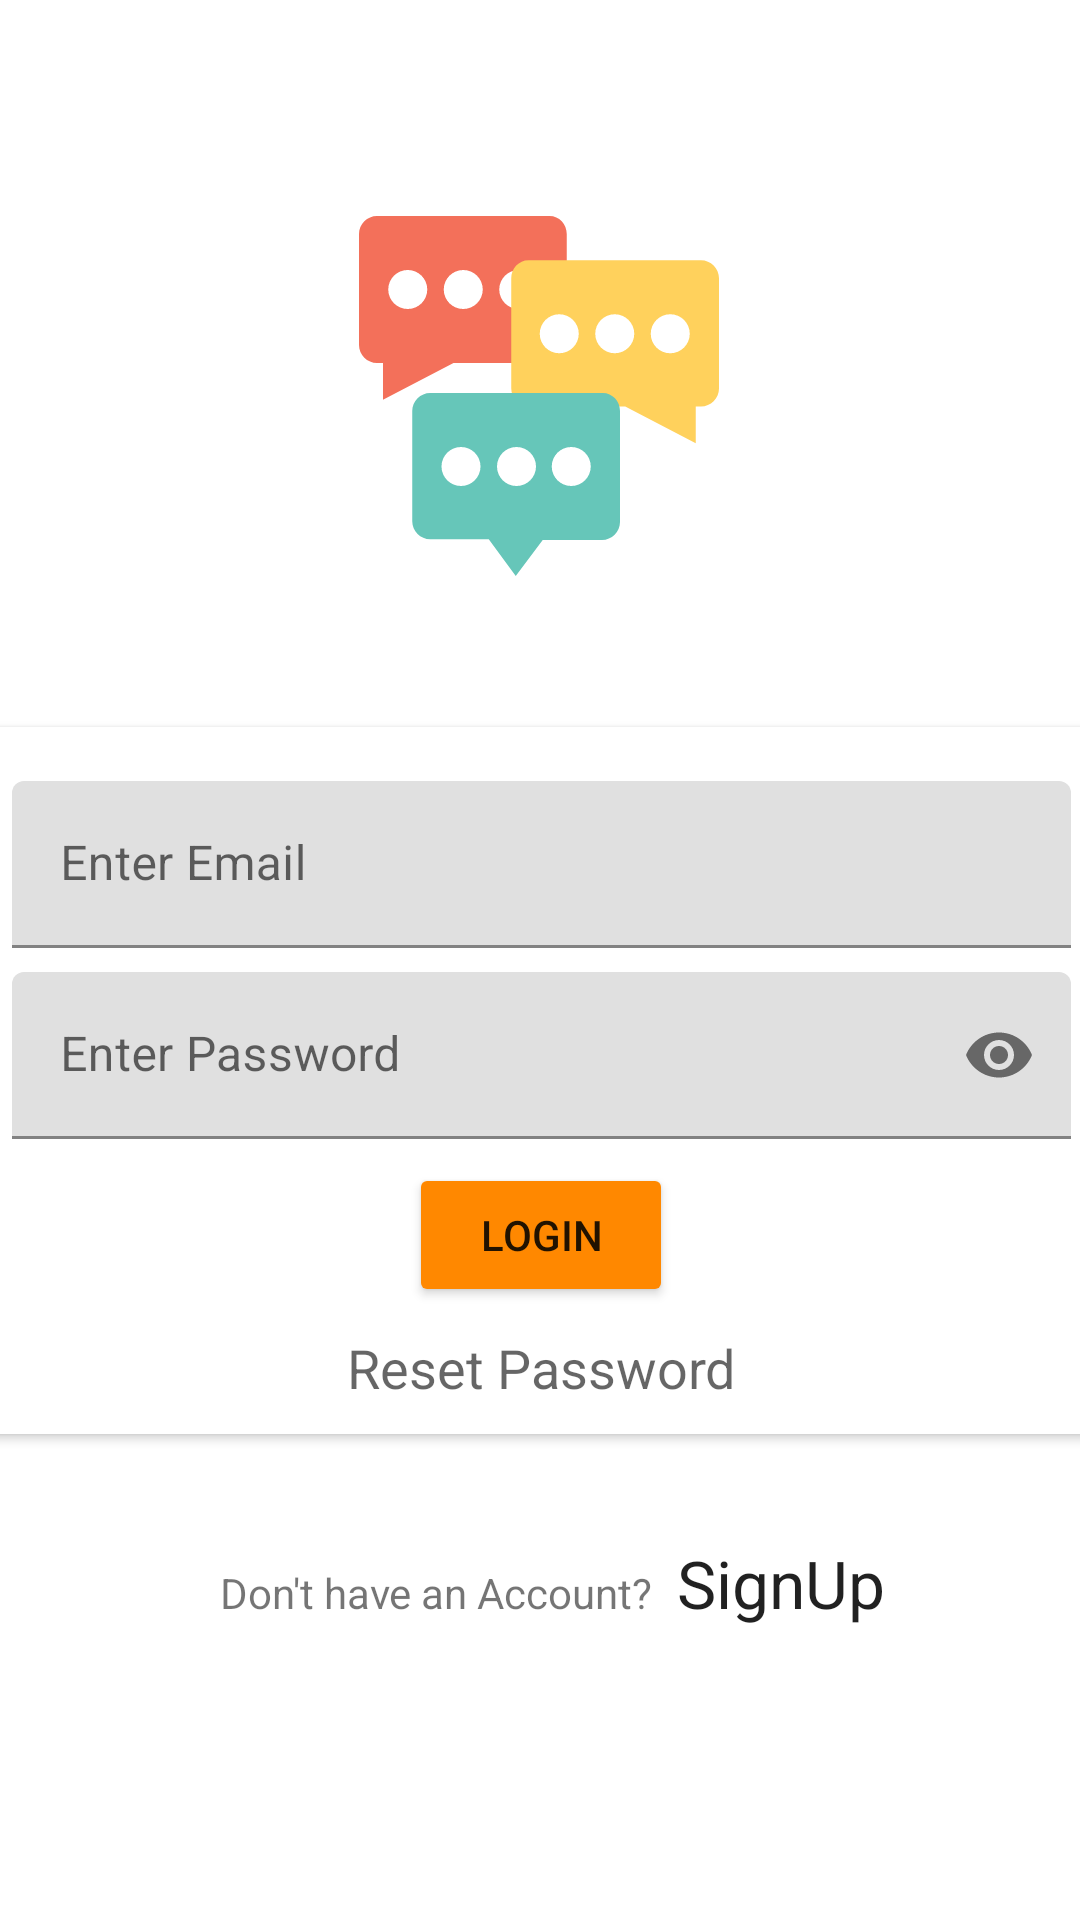

Where to tap for icons on this 1080px x 1920px app screen, as [x,y]:
chat: [539,396]
